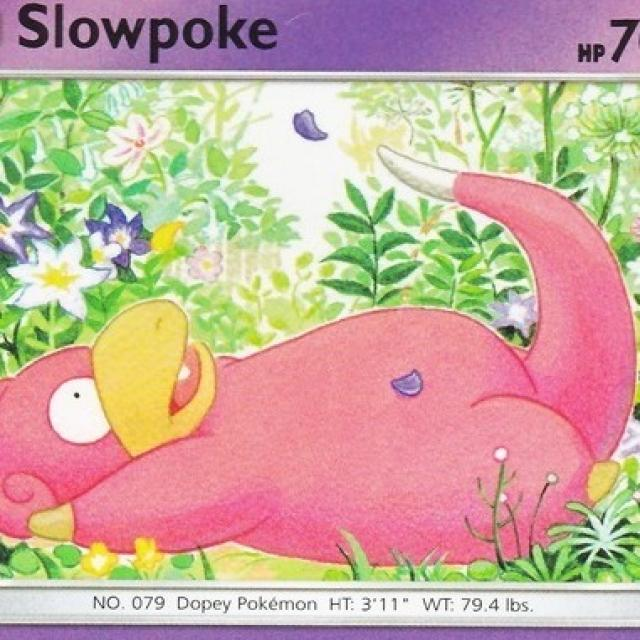Slowpoke: (1, 286, 611, 578)
